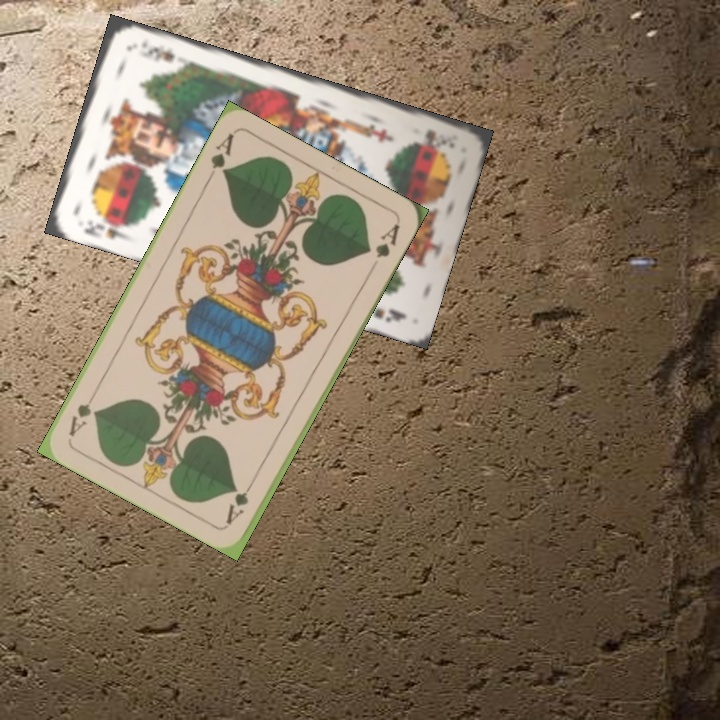GA: (221, 473, 259, 527), (202, 129, 237, 185)
SK: (80, 214, 134, 243), (421, 125, 458, 151)
